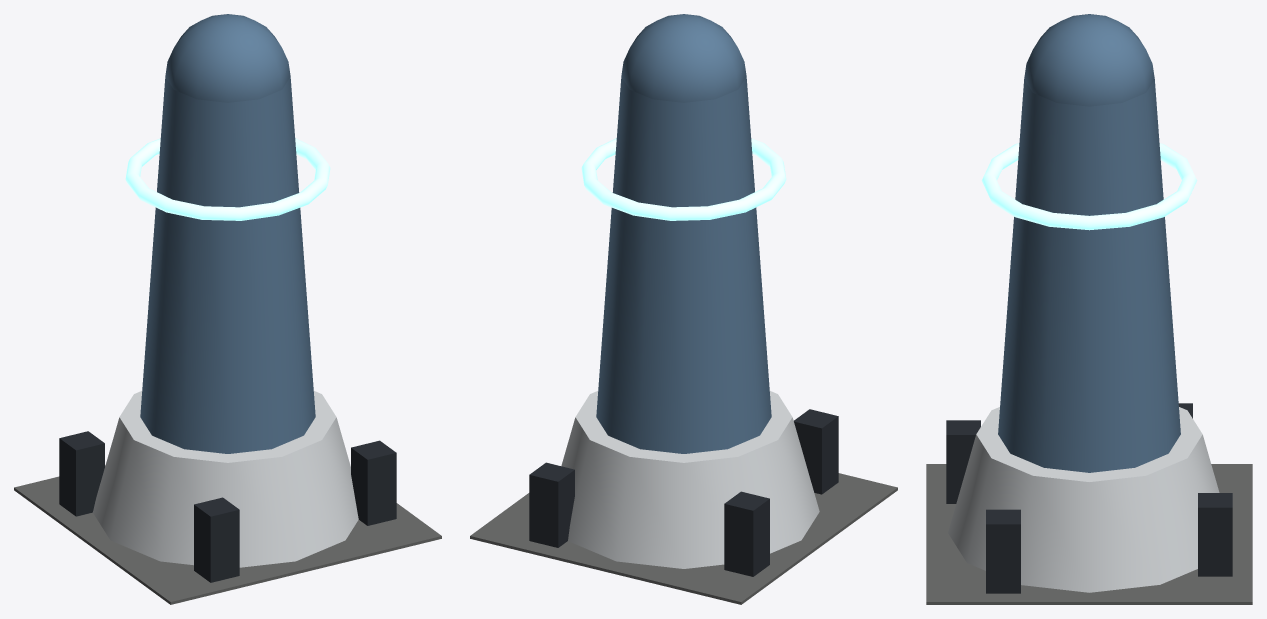
Rendered from bld_special_command_center_a09.glb.
The picture shows the model from 3 angles, left to right: view 1: azimuth 30°, elevation 25°; view 2: azimuth 150°, elevation 25°; view 3: azimuth 270°, elevation 25°; orthographic projection. The views are drawn at different scales.
Visible parts, largest first — view 1: body; view 2: body; view 3: body.
Boxes of the visible parts, x1,y1,x2,y2 form: body: (14, 14, 441, 604); body: (470, 14, 897, 604); body: (926, 14, 1252, 604).
Size of what is drawn, in the model's own units: 15 by 26.15 by 15.
